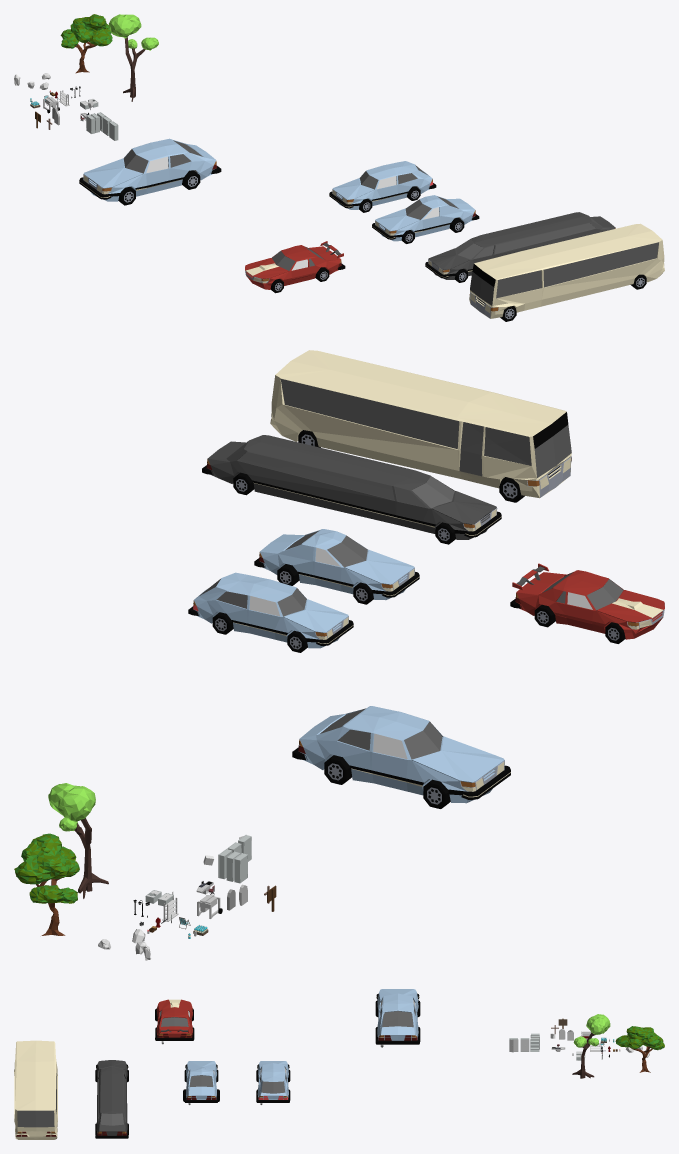
Rendered from toomb_stone 2.fbx.
3 views of the same model, one above another, from view 1: azimuth 30°, elevation 25°; view 2: azimuth 150°, elevation 25°; view 3: azimuth 270°, elevation 25° (orthographic). The views are drawn at different scales.
Parts seen in each view (by area): view 1: car body.006, car body.008, car body.005, car body.002, car body.003, car body.004, Leaves, Mball.003; view 2: car body.006, car body.005, car body.008, car body.002, car body.003, car body.004, Leaves, Mball.003; view 3: car body.006, car body.005, car body.008, car body.004, car body.003, car body.002, Leaves, Mball.003, Cube.027.
Boxes of the visible parts, bbox=[...] form: car body.006: bbox=[469, 223, 664, 318]; car body.008: bbox=[79, 138, 221, 201]; car body.005: bbox=[425, 212, 615, 279]; car body.002: bbox=[329, 161, 436, 209]; car body.003: bbox=[372, 195, 479, 241]; car body.004: bbox=[245, 245, 345, 289]; Leaves: bbox=[60, 14, 112, 48]; Mball.003: bbox=[109, 14, 141, 38]; car body.006: bbox=[270, 350, 571, 498]; car body.005: bbox=[202, 435, 501, 539]; car body.008: bbox=[292, 706, 510, 803]; car body.002: bbox=[188, 572, 353, 648]; car body.003: bbox=[254, 529, 419, 600]; car body.004: bbox=[510, 570, 664, 639]; Leaves: bbox=[14, 833, 79, 903]; Mball.003: bbox=[48, 783, 95, 821]; car body.006: bbox=[14, 1040, 57, 1139]; car body.005: bbox=[95, 1060, 128, 1138]; car body.008: bbox=[375, 989, 419, 1044]; car body.004: bbox=[155, 999, 194, 1040]; car body.003: bbox=[184, 1061, 218, 1102]; car body.002: bbox=[256, 1061, 289, 1102]; Leaves: bbox=[615, 1026, 664, 1050]; Mball.003: bbox=[586, 1014, 610, 1034]; Cube.027: bbox=[572, 1032, 595, 1078].
Bounding box in the file's own units: 7872 × 1598 × 15085.
